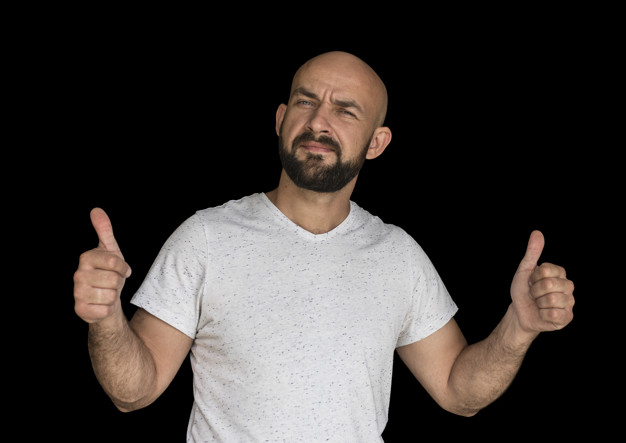thumbsup: (73, 207, 132, 321), (523, 229, 576, 325)
